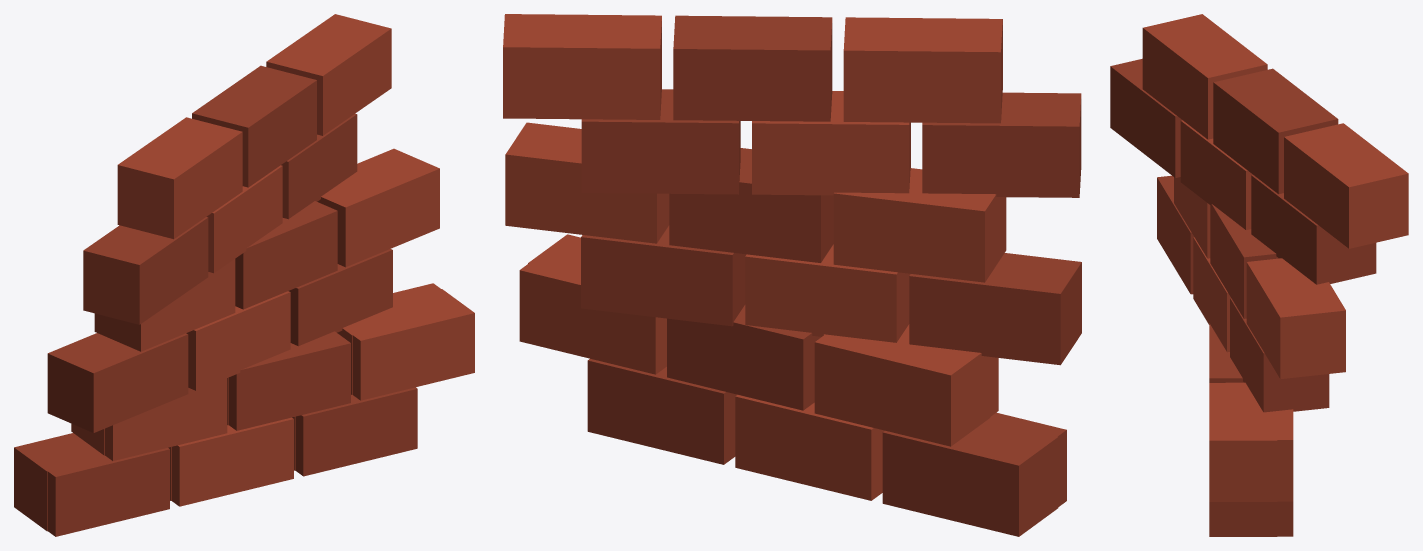
File: Proc_Brick.fbx
3 views of the same model, side by side, from view 1: azimuth 30°, elevation 25°; view 2: azimuth 150°, elevation 25°; view 3: azimuth 270°, elevation 25° (orthographic). The views are drawn at different scales.
Parts seen in each view (by area): view 1: Proc_Brick__Stack, Proc_Brick; view 2: Proc_Brick__Stack, Proc_Brick; view 3: Proc_Brick__Stack, Proc_Brick.
Part boxes in pixels (bbox=[...]): Proc_Brick__Stack: bbox=[47, 14, 474, 536]; Proc_Brick: bbox=[14, 283, 465, 531]; Proc_Brick__Stack: bbox=[503, 14, 1081, 506]; Proc_Brick: bbox=[519, 241, 1058, 536]; Proc_Brick__Stack: bbox=[1110, 14, 1408, 536]; Proc_Brick: bbox=[1225, 382, 1293, 536].
Size of the model in its own units: 0.2208 by 0.1806 by 0.1318.
